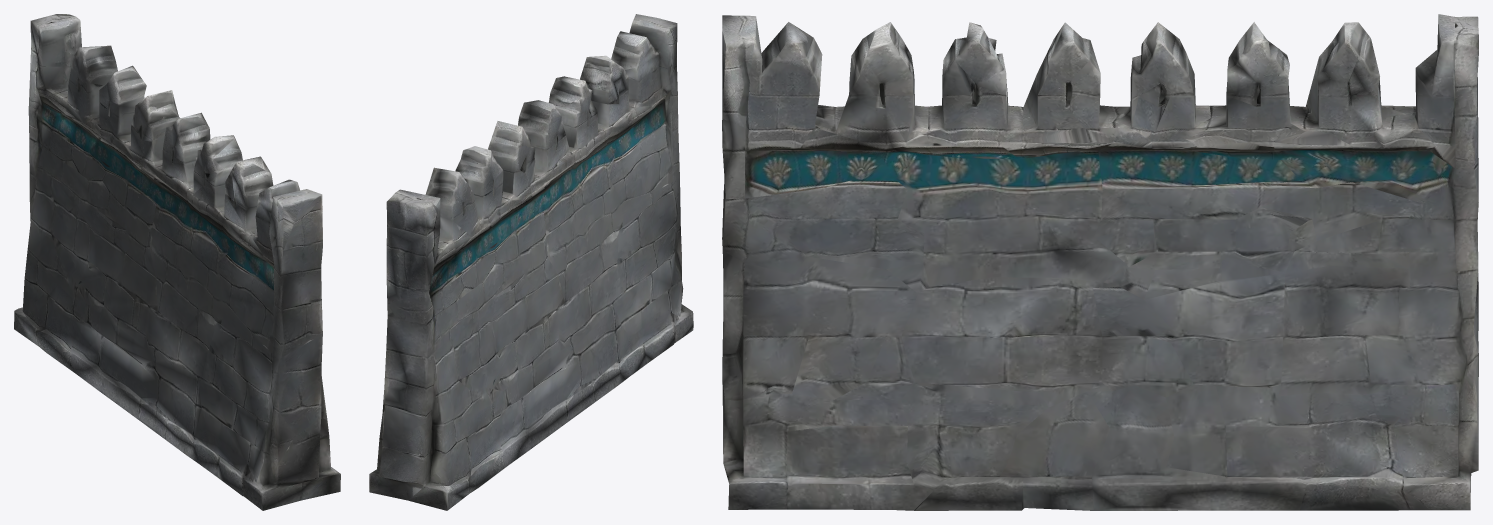
File: castle_wall_stone_b.glb
3 renders of one model, left to right at view 1: azimuth 30°, elevation 25°; view 2: azimuth 150°, elevation 25°; view 3: azimuth 270°, elevation 25°, orthographic. The views are drawn at different scales.
Parts seen in each view (by area): view 1: tripo_node_2e28ab4b-eb5a-446c-a14d-1f48fcfae478; view 2: tripo_node_2e28ab4b-eb5a-446c-a14d-1f48fcfae478; view 3: tripo_node_2e28ab4b-eb5a-446c-a14d-1f48fcfae478.
Boxes of the visible parts, bbox=[...] form: tripo_node_2e28ab4b-eb5a-446c-a14d-1f48fcfae478: bbox=[14, 14, 340, 510]; tripo_node_2e28ab4b-eb5a-446c-a14d-1f48fcfae478: bbox=[369, 14, 693, 510]; tripo_node_2e28ab4b-eb5a-446c-a14d-1f48fcfae478: bbox=[722, 14, 1478, 510].
Size of the model in its own units: 0.1771 by 0.6468 by 0.9787.
Materials: 1 (1 with a texture image).
